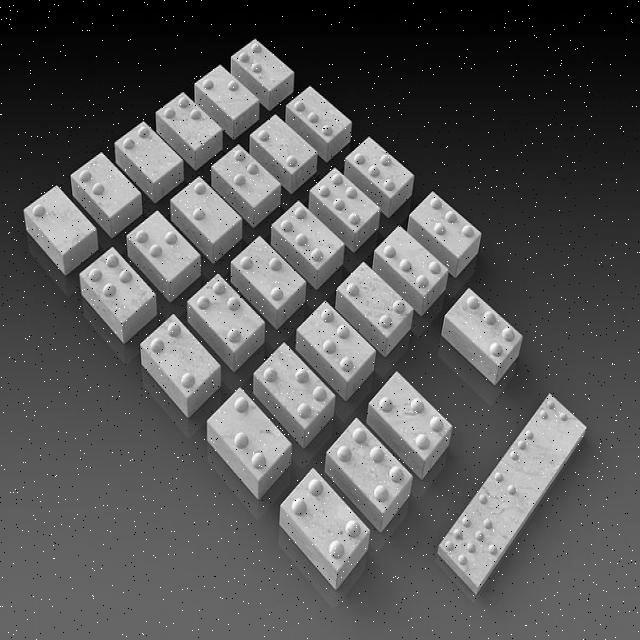A: (25, 184, 96, 255)
B: (73, 152, 141, 218)
C: (115, 120, 184, 185)
D: (157, 92, 223, 152)
E: (196, 66, 259, 122)
F: (231, 39, 294, 91)
G: (78, 247, 156, 325)
H: (129, 210, 199, 283)
I: (172, 176, 242, 243)
J: (211, 145, 280, 209)
K: (251, 115, 318, 175)
L: (285, 86, 351, 144)
M: (141, 314, 221, 398)
N: (188, 273, 265, 353)
O: (231, 236, 307, 311)
P: (274, 200, 345, 271)
Q: (312, 169, 381, 235)
R: (345, 137, 414, 200)
S: (211, 387, 291, 478)
T: (296, 302, 374, 381)
U: (337, 261, 413, 337)
V: (376, 226, 449, 297)
W: (409, 191, 481, 258)
X: (283, 467, 368, 572)
Y: (326, 417, 413, 515)
Z: (369, 371, 453, 461), (254, 343, 335, 430)
